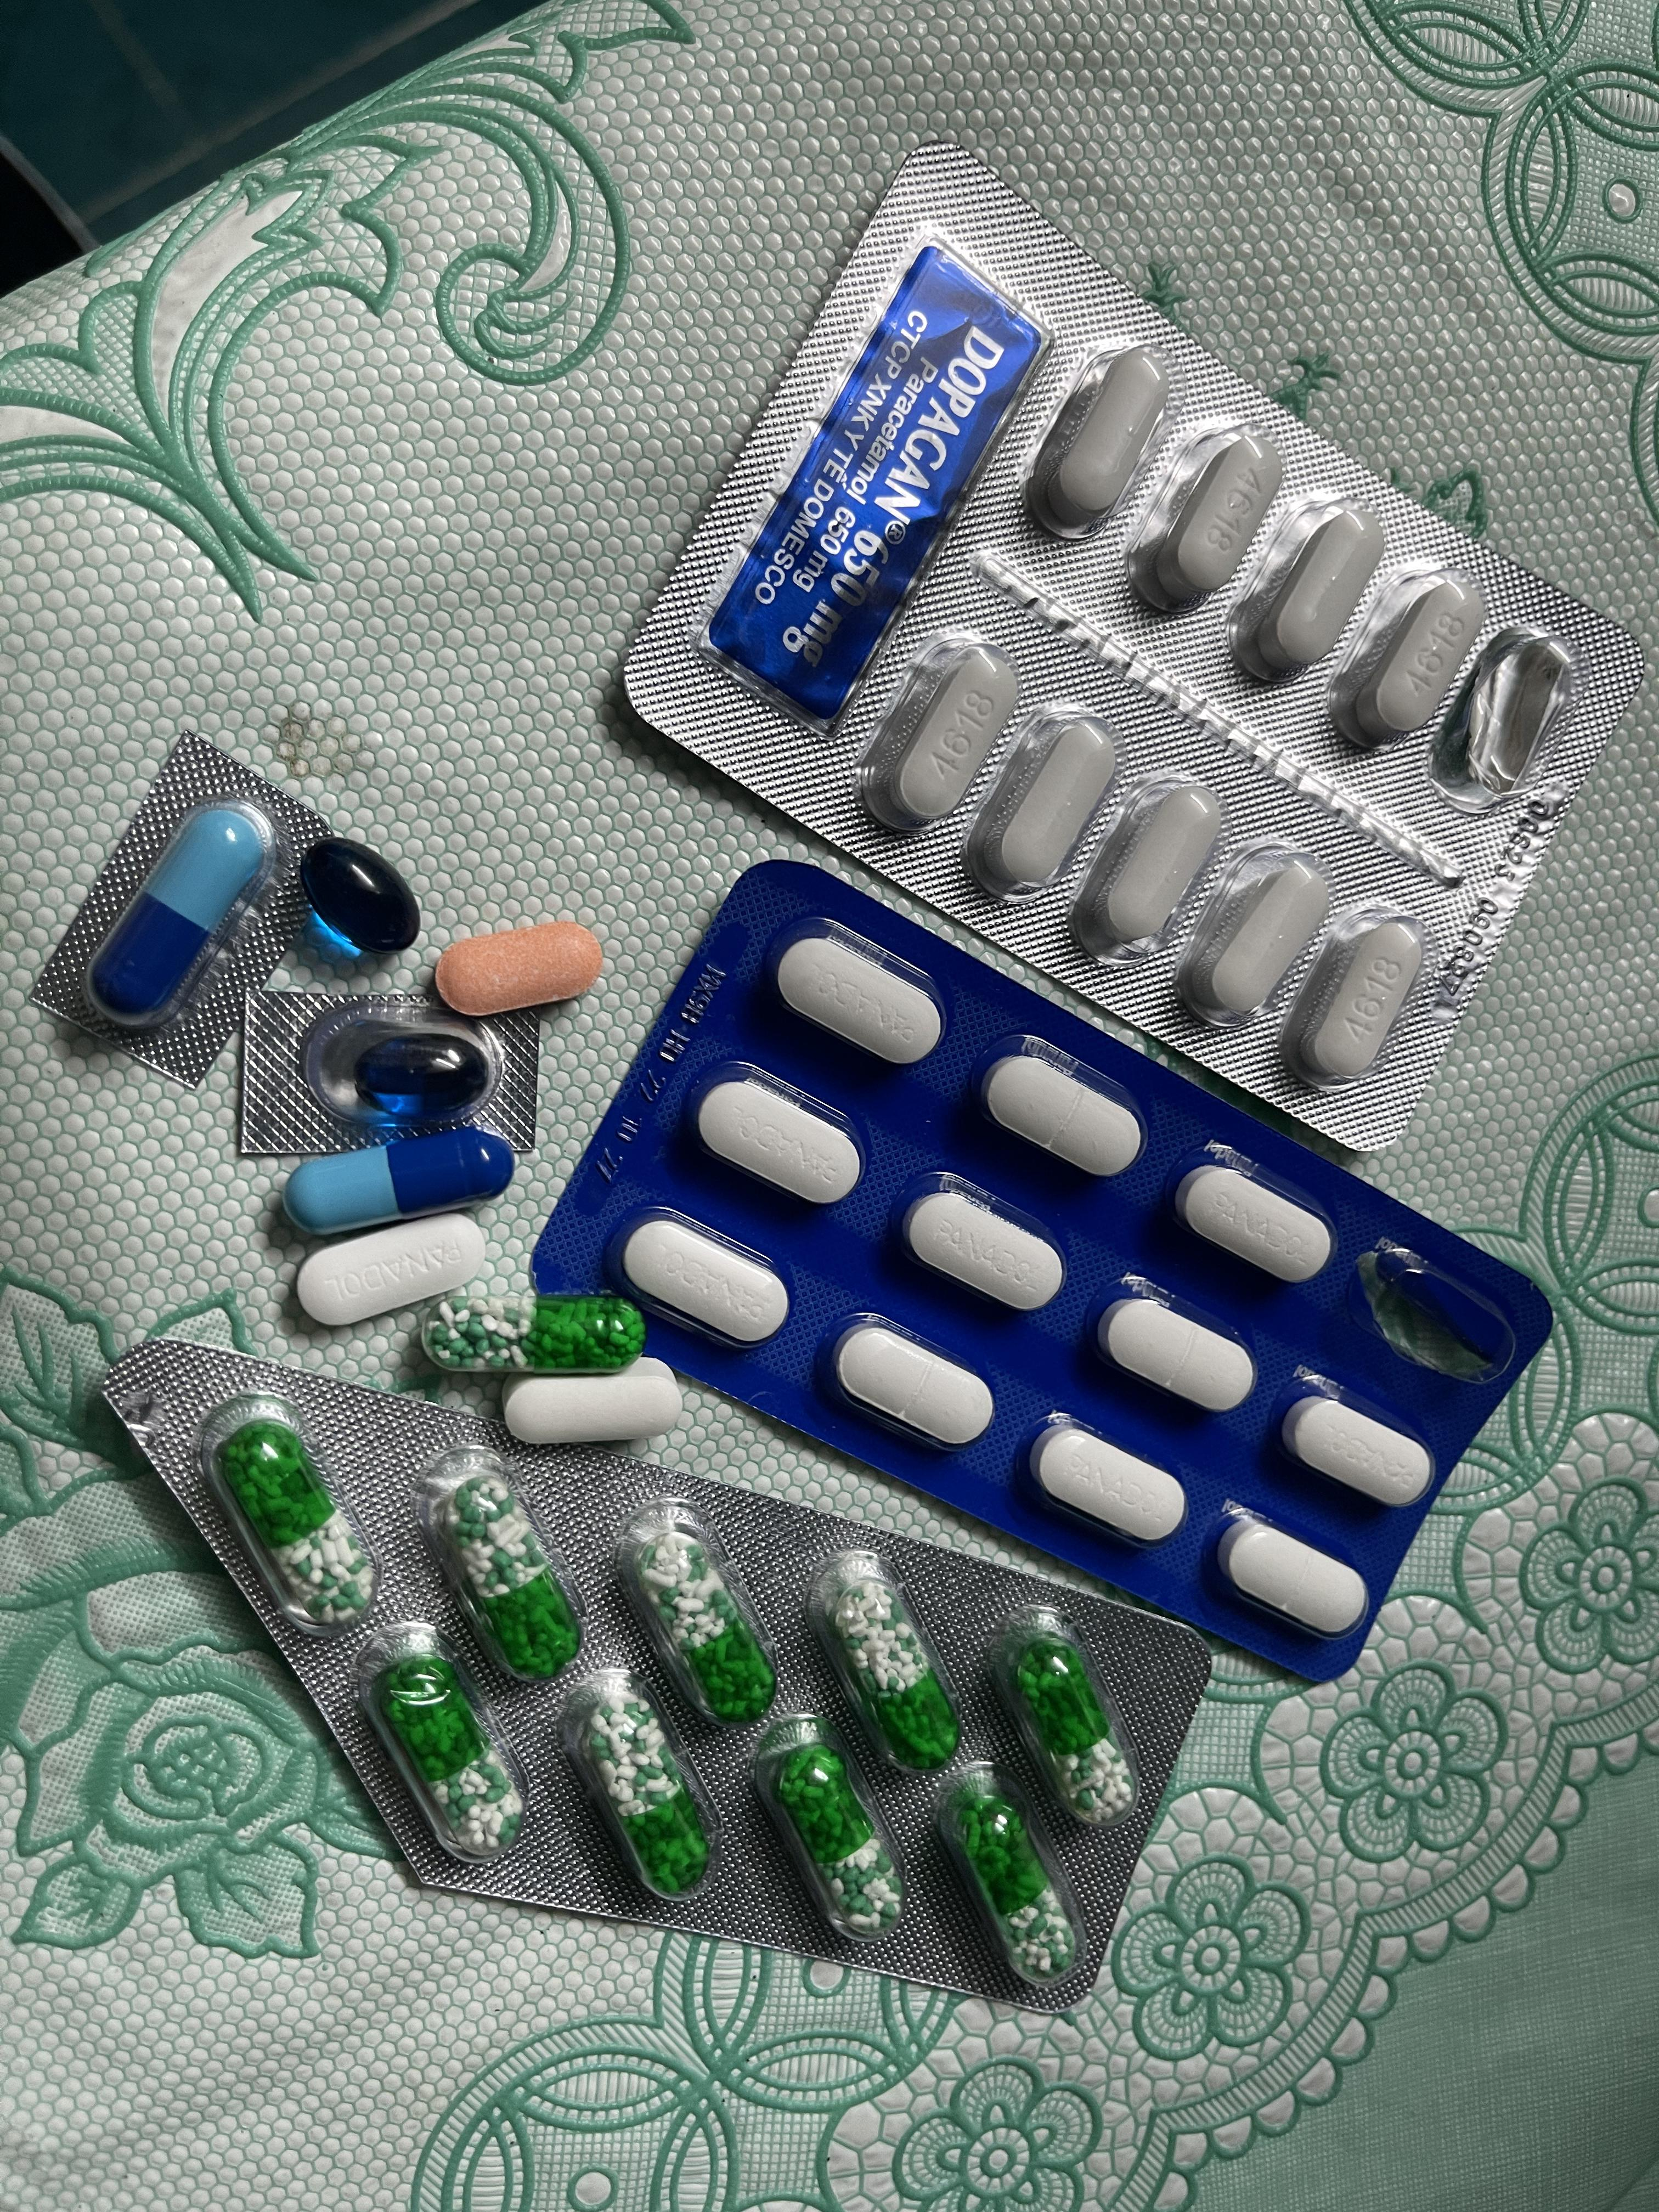Lincomyxin_500mg: (296, 838, 425, 961), (352, 1035, 490, 1115)
Loratadine_10mg: (434, 920, 606, 1017)
Paracetamol_350mg: (819, 1315, 993, 1451), (763, 920, 932, 1059), (979, 1040, 1150, 1174), (608, 1211, 782, 1341), (894, 1174, 1063, 1306), (293, 1209, 486, 1322), (1087, 1284, 1251, 1413), (1025, 1420, 1183, 1545), (704, 1076, 857, 1204), (1213, 1512, 1366, 1635), (1279, 1386, 1434, 1507), (1173, 1162, 1330, 1278)
Paracetamol_500mg: (852, 636, 1019, 836), (1230, 495, 1391, 690), (1324, 564, 1483, 756), (1126, 421, 1283, 615), (962, 707, 1121, 897), (1026, 340, 1175, 540), (1066, 775, 1220, 956), (1175, 838, 1331, 1014), (1284, 902, 1432, 1073), (505, 1360, 683, 1444)
Paracetamol_650mg: (375, 1651, 525, 1858), (221, 1426, 376, 1620), (640, 1529, 774, 1723), (448, 1479, 579, 1670), (774, 1740, 899, 1939), (587, 1696, 708, 1895), (948, 1782, 1070, 1977), (833, 1578, 958, 1766), (1014, 1635, 1136, 1820), (420, 1289, 647, 1372)
pill: (85, 801, 281, 1031), (284, 1127, 511, 1238)
